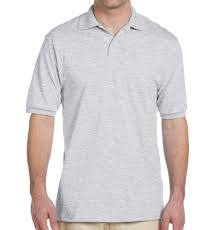C_polo shirt: (25, 4, 194, 230)
